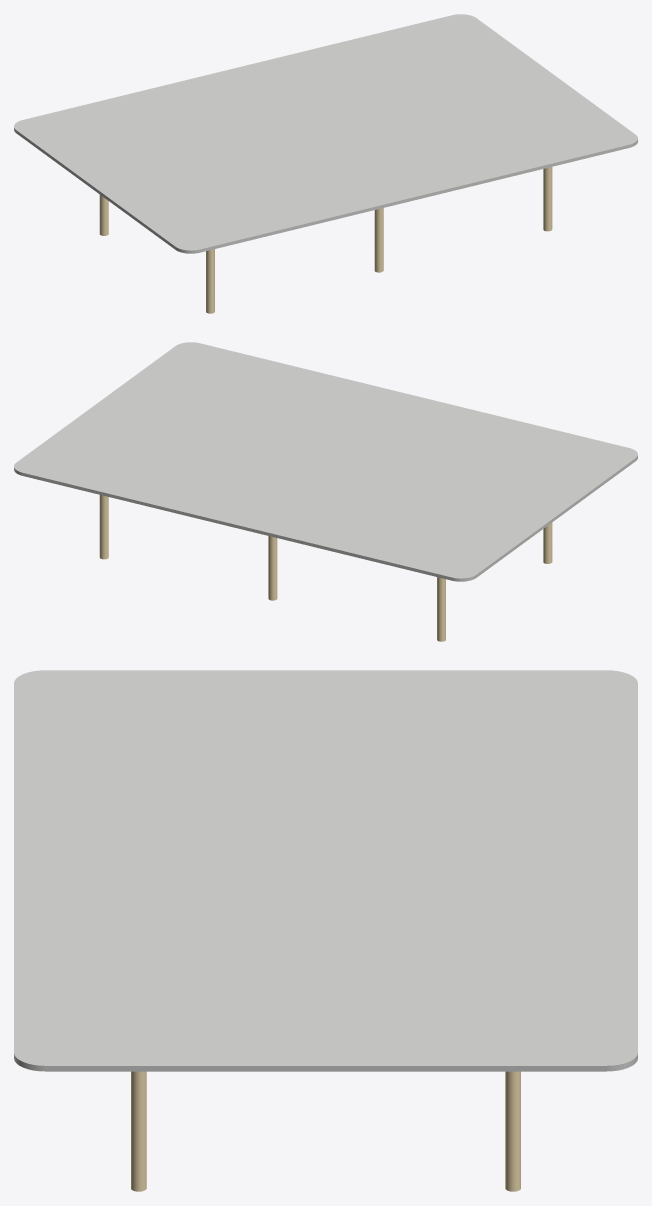
File: UpperBody.glb
3 views of the same model, one above another, from view 1: azimuth 30°, elevation 25°; view 2: azimuth 150°, elevation 25°; view 3: azimuth 270°, elevation 25° (orthographic). The views are drawn at different scales.
Visible parts, largest first — view 1: UpperBody; view 2: UpperBody; view 3: UpperBody.
Boxes of the visible parts, x1,y1,x2,y2 form: UpperBody: (14,14,637,313); UpperBody: (14,342,637,641); UpperBody: (14,670,637,1191).
Bounding box in the file's own units: 29.91 × 6.18 × 19.94.
